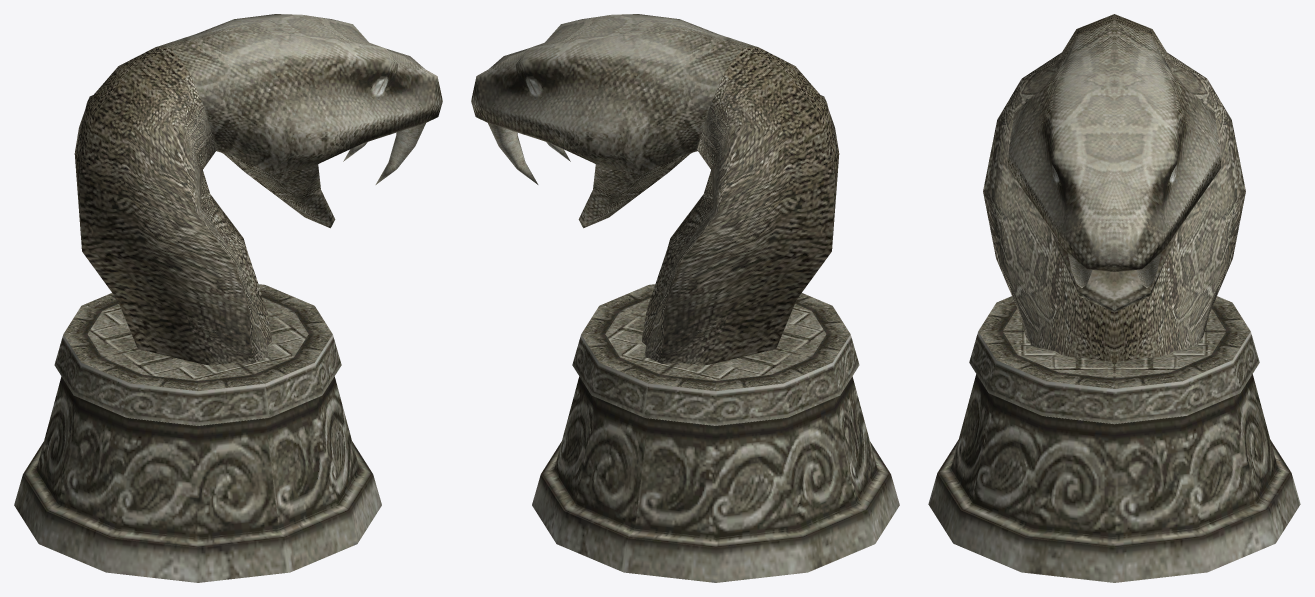
Rendered from gls_a_snakestatue_01.glb.
3 views of the same model, side by side, from view 1: azimuth 30°, elevation 25°; view 2: azimuth 150°, elevation 25°; view 3: azimuth 270°, elevation 25° (orthographic).
Visible parts, largest first — view 1: gls_A_SnakeStatue_01; view 2: gls_A_SnakeStatue_01; view 3: gls_A_SnakeStatue_01.
Part boxes in pixels (bbox=[...]): gls_A_SnakeStatue_01: bbox=[14, 14, 442, 582]; gls_A_SnakeStatue_01: bbox=[471, 14, 899, 582]; gls_A_SnakeStatue_01: bbox=[928, 14, 1300, 582].
Bounding box in the file's own units: 4 × 4.5 × 3.22.
1 material, 1 textured.
